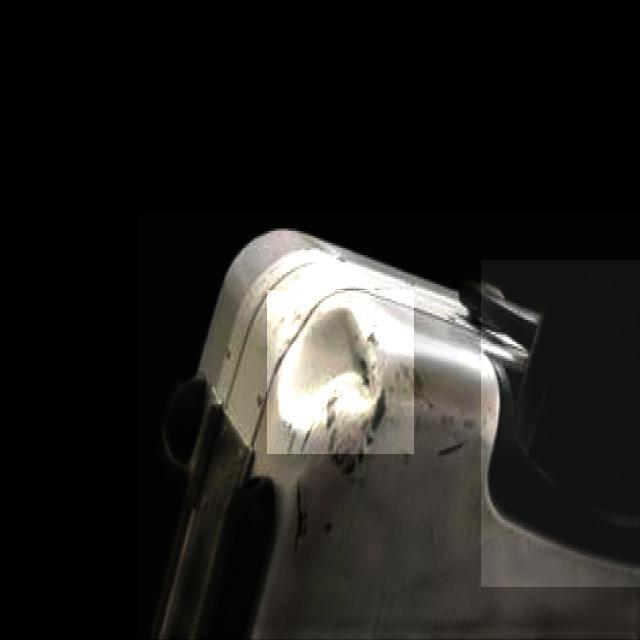Damage-bag: (275, 309, 385, 454)
